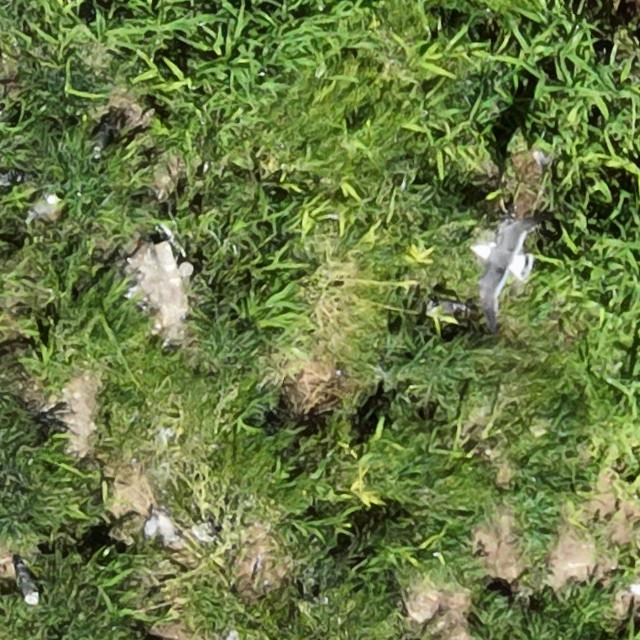F: (469, 218, 532, 305)
umineko: (30, 193, 60, 218), (17, 568, 35, 602)
